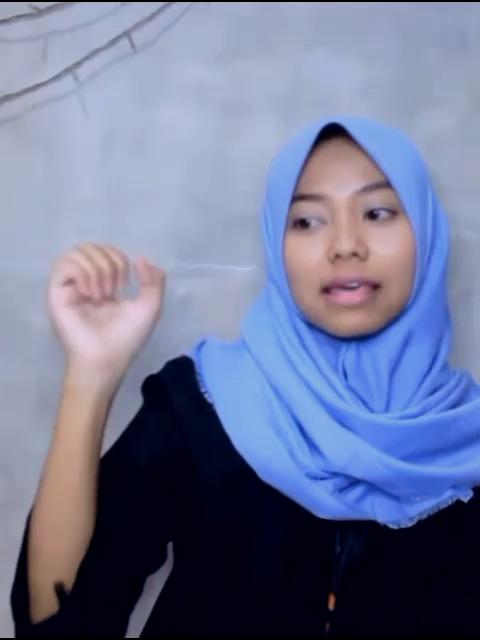S: (47, 242, 172, 364)
